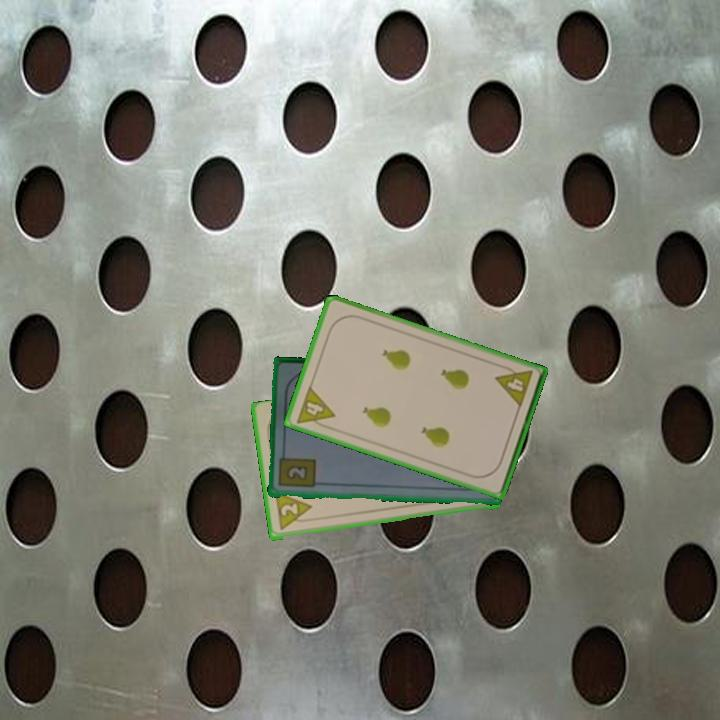2b: (275, 448, 318, 490)
2p: (271, 490, 316, 533)
4p: (293, 383, 338, 433), (492, 361, 535, 411)
